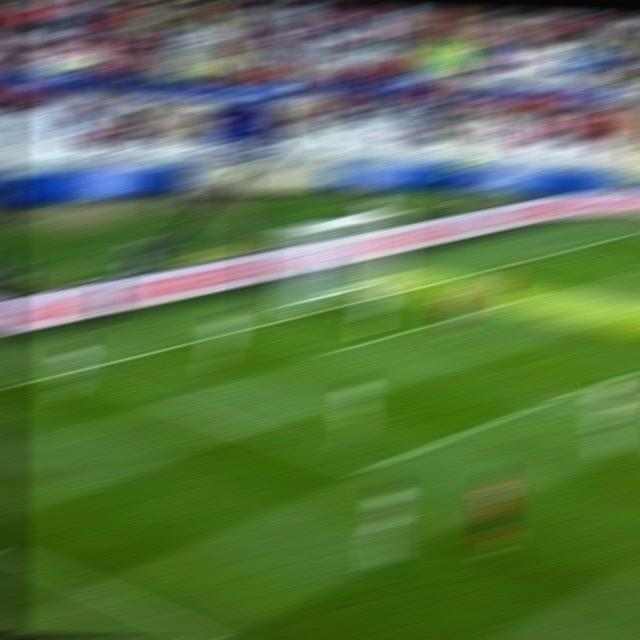bigarea_bottom_inner: (345, 457, 382, 481)
bigarea_top_outter: (536, 246, 569, 260)
bottom_arc_area_intersection: (527, 391, 568, 415)
smallarea_bottom_inner: (306, 342, 340, 363)
smallarea_bottom_outter: (225, 318, 259, 338)
smallarea_top_inner: (506, 287, 546, 306)
smallarea_top_outter: (436, 271, 468, 285)
